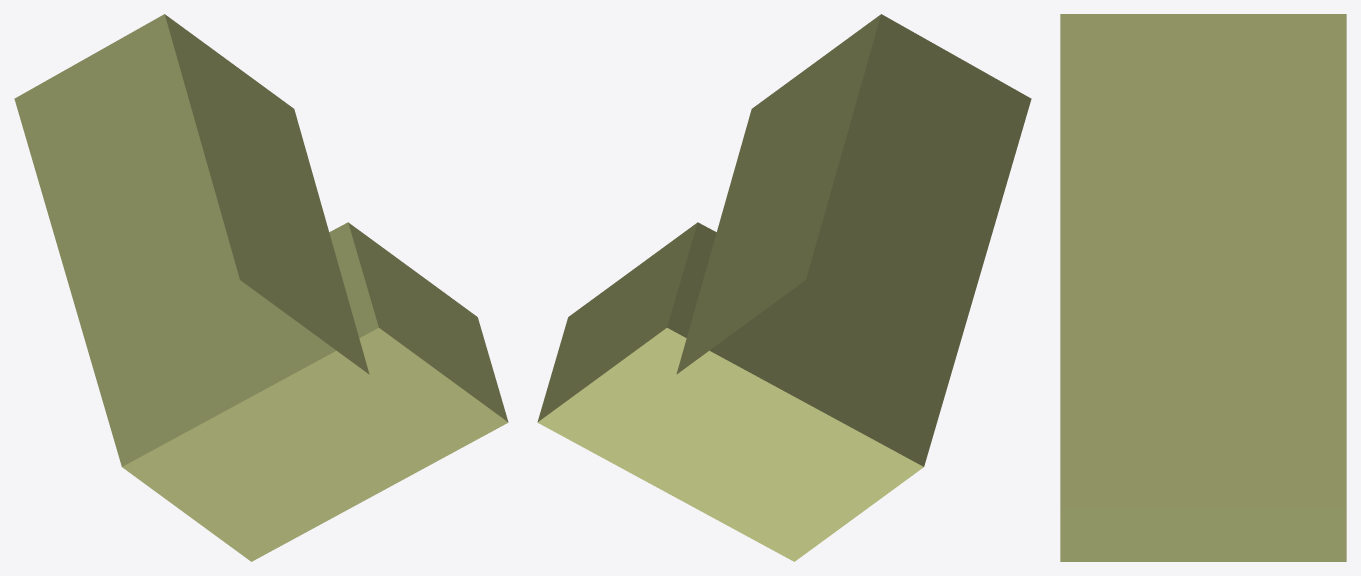
3 renders of one model, left to right at view 1: azimuth 30°, elevation 25°; view 2: azimuth 150°, elevation 25°; view 3: azimuth 270°, elevation 25°, orthographic. The views are drawn at different scales.
Visible parts, largest first — view 1: 0_1_0_2_1_3_2_1_1_3_2; view 2: 0_1_0_2_1_3_2_1_1_3_2; view 3: 0_1_0_2_1_3_2_1_1_3_2.
Boxes of the visible parts, left/top/right/bottom form: 0_1_0_2_1_3_2_1_1_3_2: left=14, top=14, right=508, bottom=561; 0_1_0_2_1_3_2_1_1_3_2: left=537, top=14, right=1031, bottom=561; 0_1_0_2_1_3_2_1_1_3_2: left=1060, top=14, right=1346, bottom=561.
Bounding box in the file's own units: 9.74 × 11.3 × 6.
